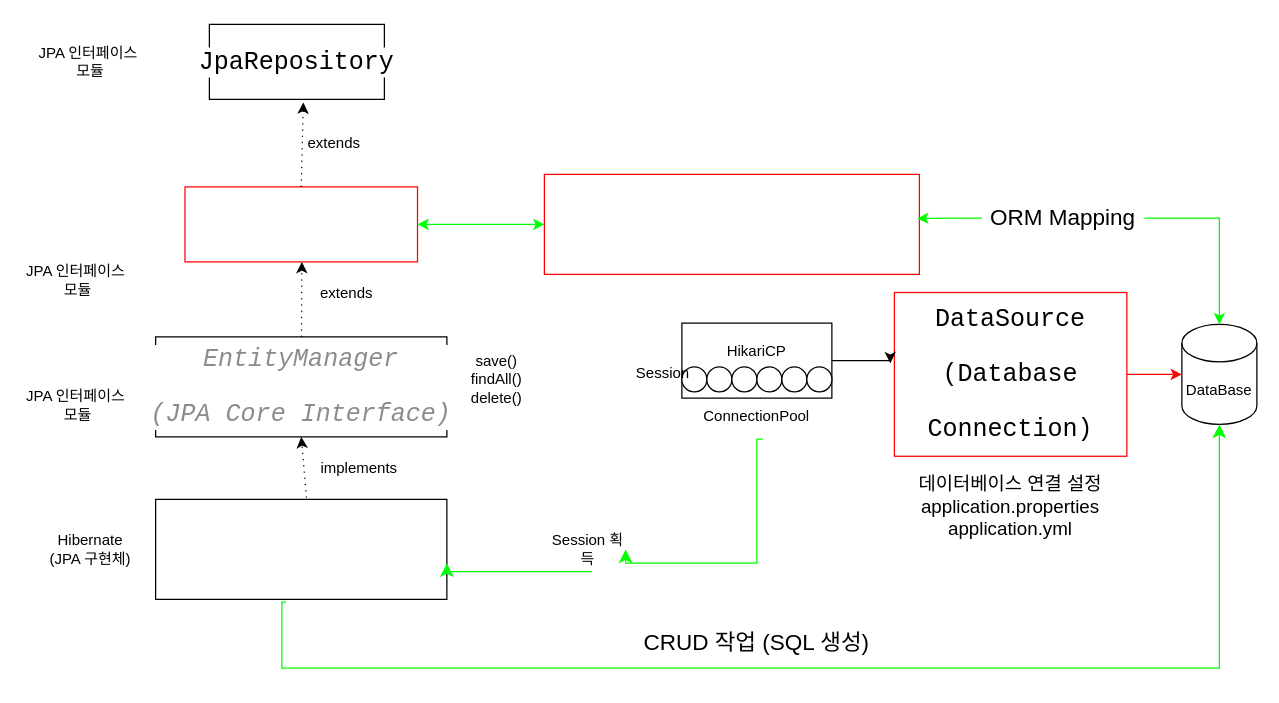
The diagram is 1279 pixels wide and 703 high, and some of its shapes have lost their labels. The centre of each missing label's shape, as x and y in pixels:
CustomRepository: (x=301, y=224)
Entity Class (Database Table Mapping): (x=731, y=223)
Hibernate (Session API): (x=300, y=548)
